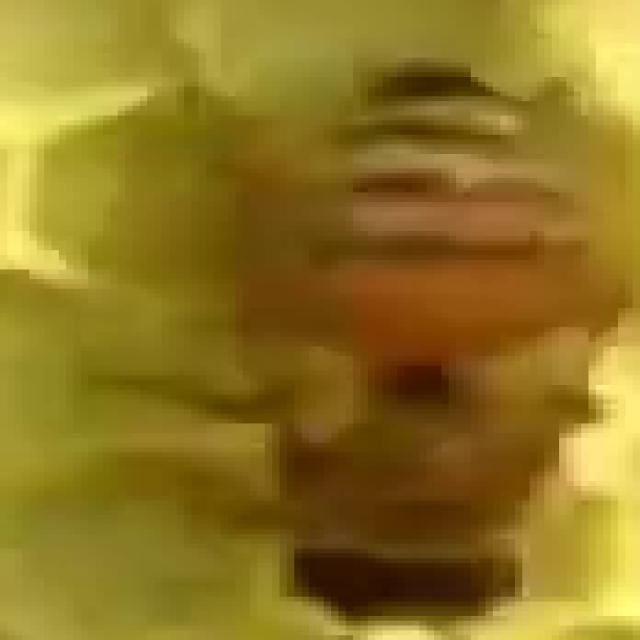honeybee: (205, 67, 640, 640)
